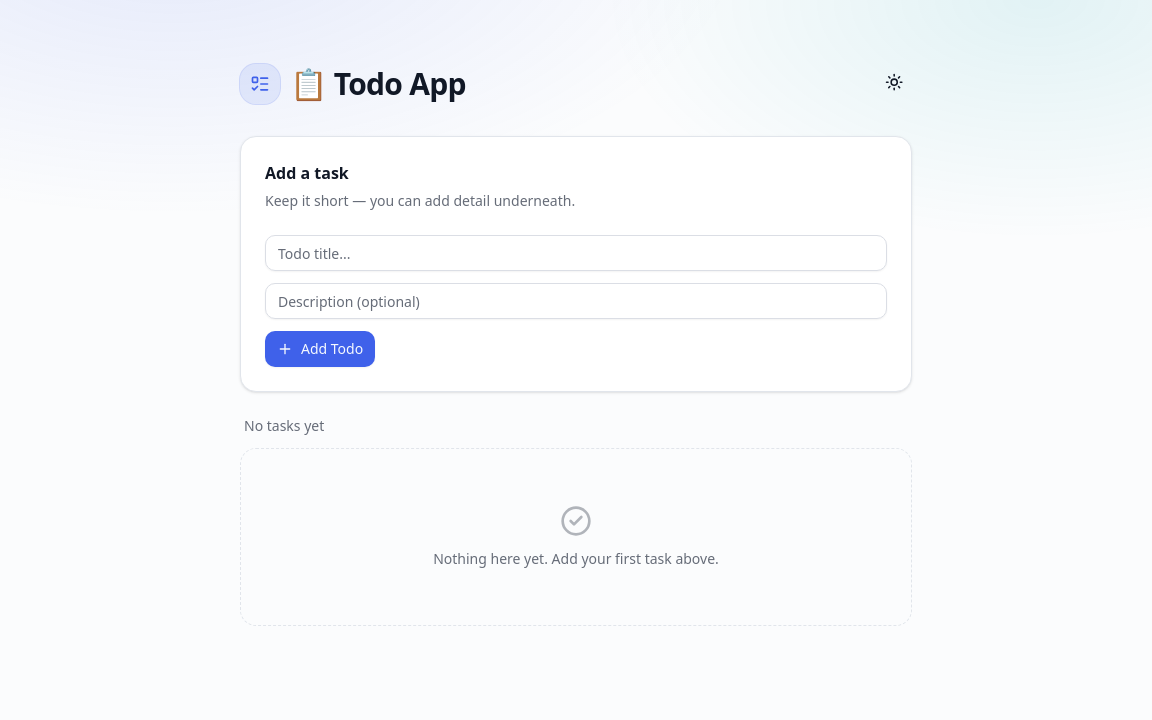
Test case: Todo App › shows error when title is empty
What coordinates should you click on to do the following:
click the button "Add Todo"
I would click on:
 (320, 349)
Its box is [265, 331, 375, 367].
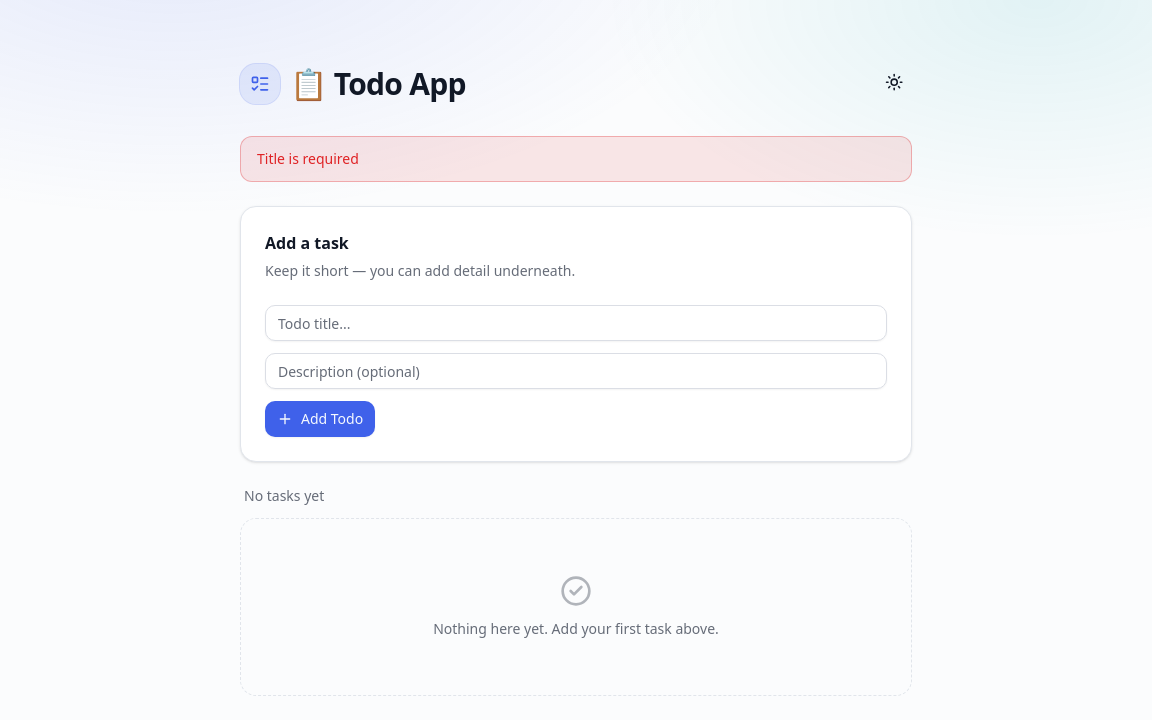
Result: the message reads "Title is required" at [257, 149, 359, 168]
